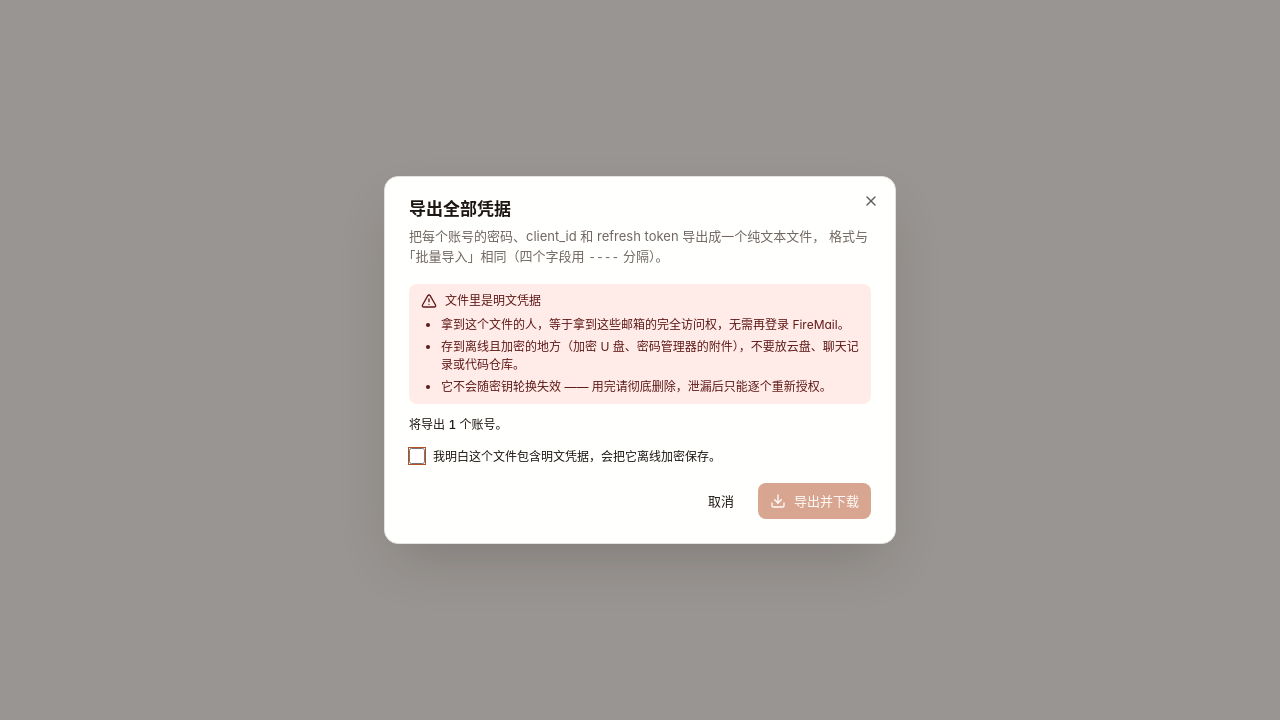
Test: 导出凭据对话框 › 失败时显示服务端给的原因
Step 1. Click the checkbox labelled "我明白这个文件包含明文凭据，会把它离线加密保存。" → (417, 456), box 409,448 -> 425,464
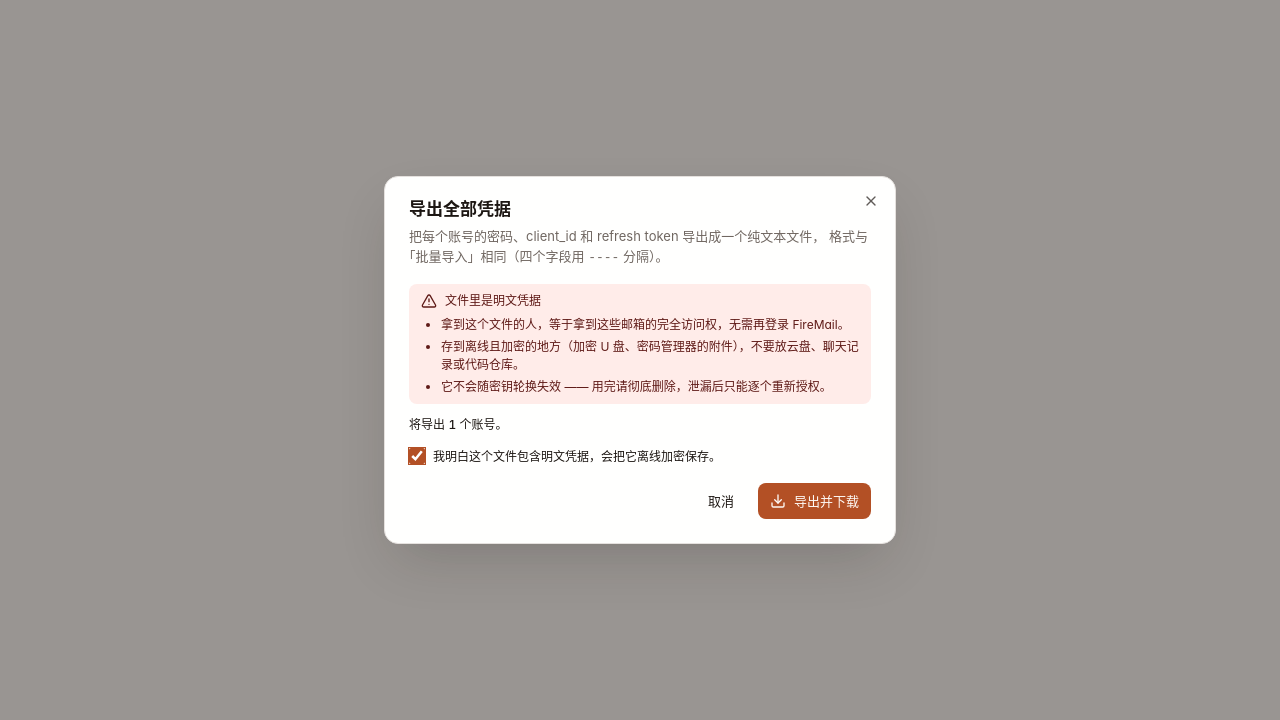
Step 2. Click the button "导出并下载" → (814, 501), box 758,483 -> 871,519
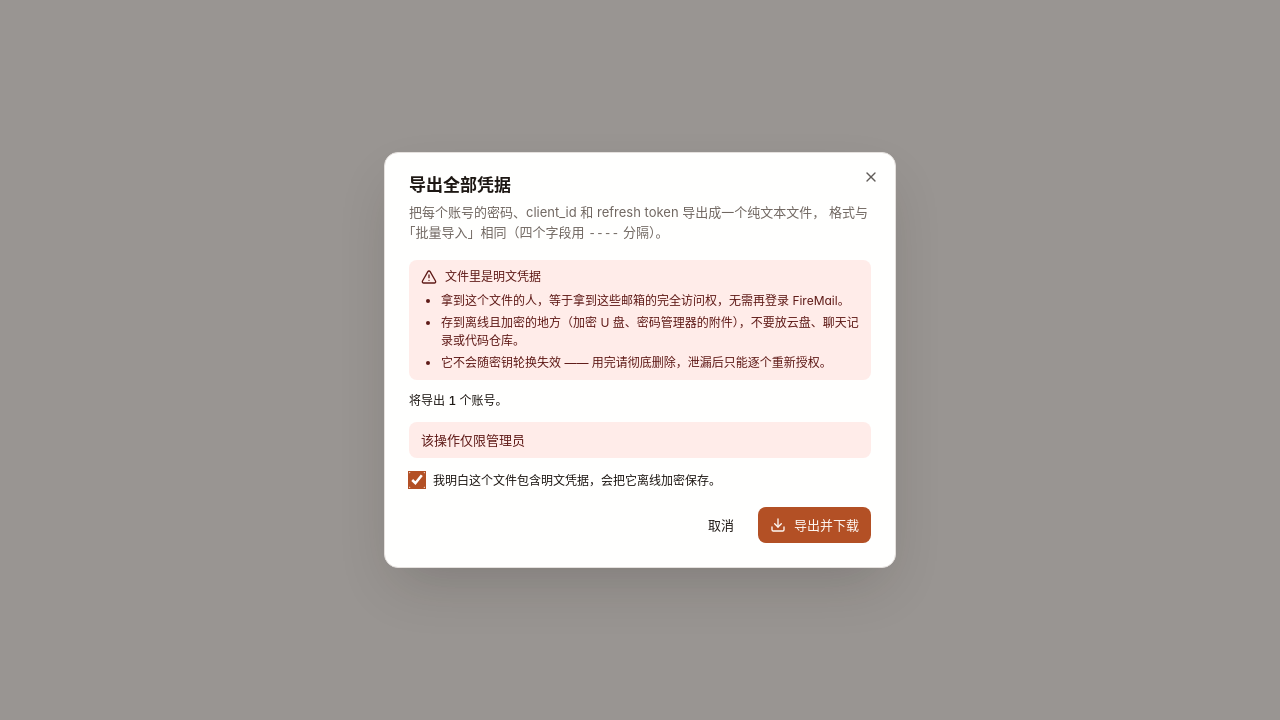
Check: the text "该操作仅限管理员" is shown, box 409,422 -> 871,458
